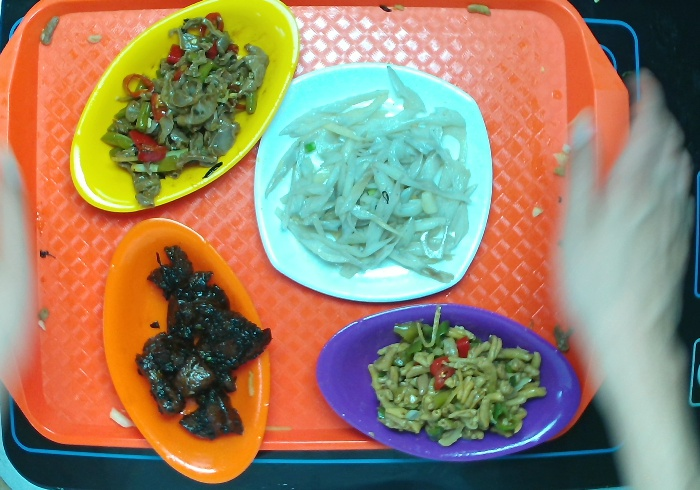RJxy-Fen_Hong_Tuo_Yuan: (306, 297, 587, 467)
RJxy-Huang_Se_Tuo_Yuan: (61, 1, 304, 221)
RJxy-Ju_Huang_Tuo_Yuan: (90, 214, 279, 485)
RJxy-Si_Fang_Die: (252, 60, 495, 314)
